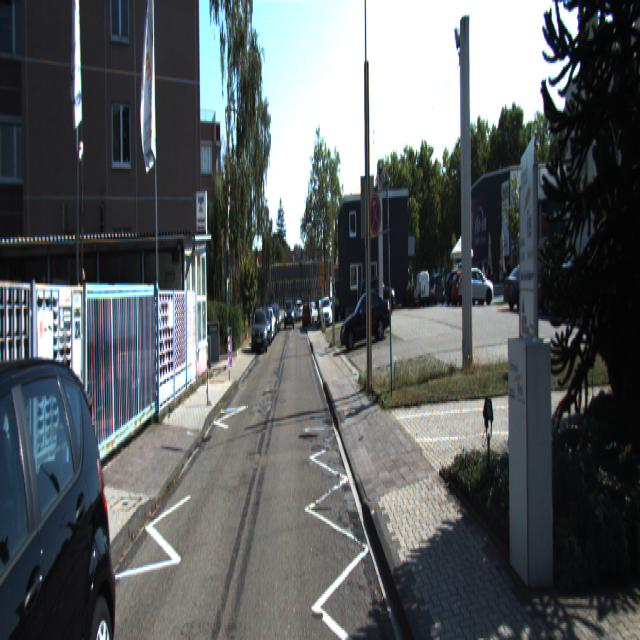Car: (0, 331, 120, 638), (338, 286, 392, 352), (456, 266, 494, 307), (250, 306, 269, 354), (413, 270, 431, 307)
